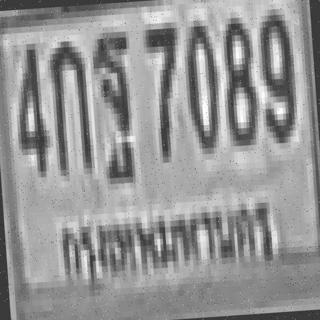A01: (47, 34, 90, 170)
A16: (91, 28, 134, 164)
N00: (181, 13, 219, 149)
N04: (10, 37, 48, 173)
N07: (142, 16, 183, 158)
N08: (218, 11, 256, 141)
N09: (255, 2, 296, 138)
P04: (49, 182, 284, 303)
